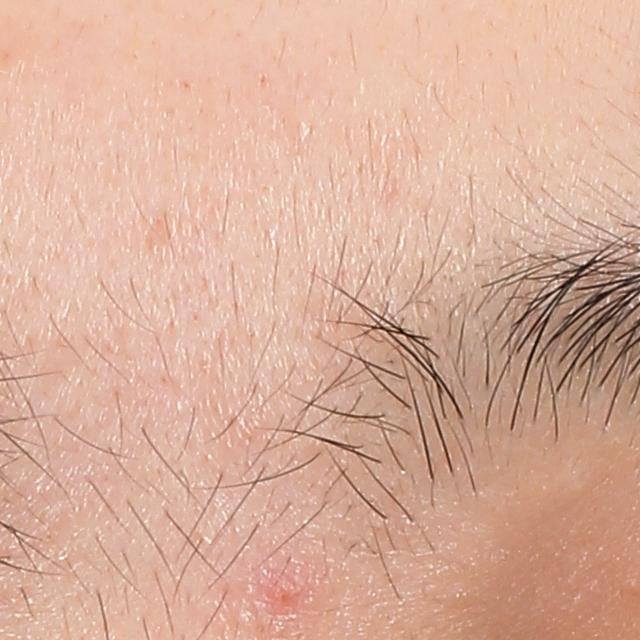papule: (267, 576, 302, 615)
